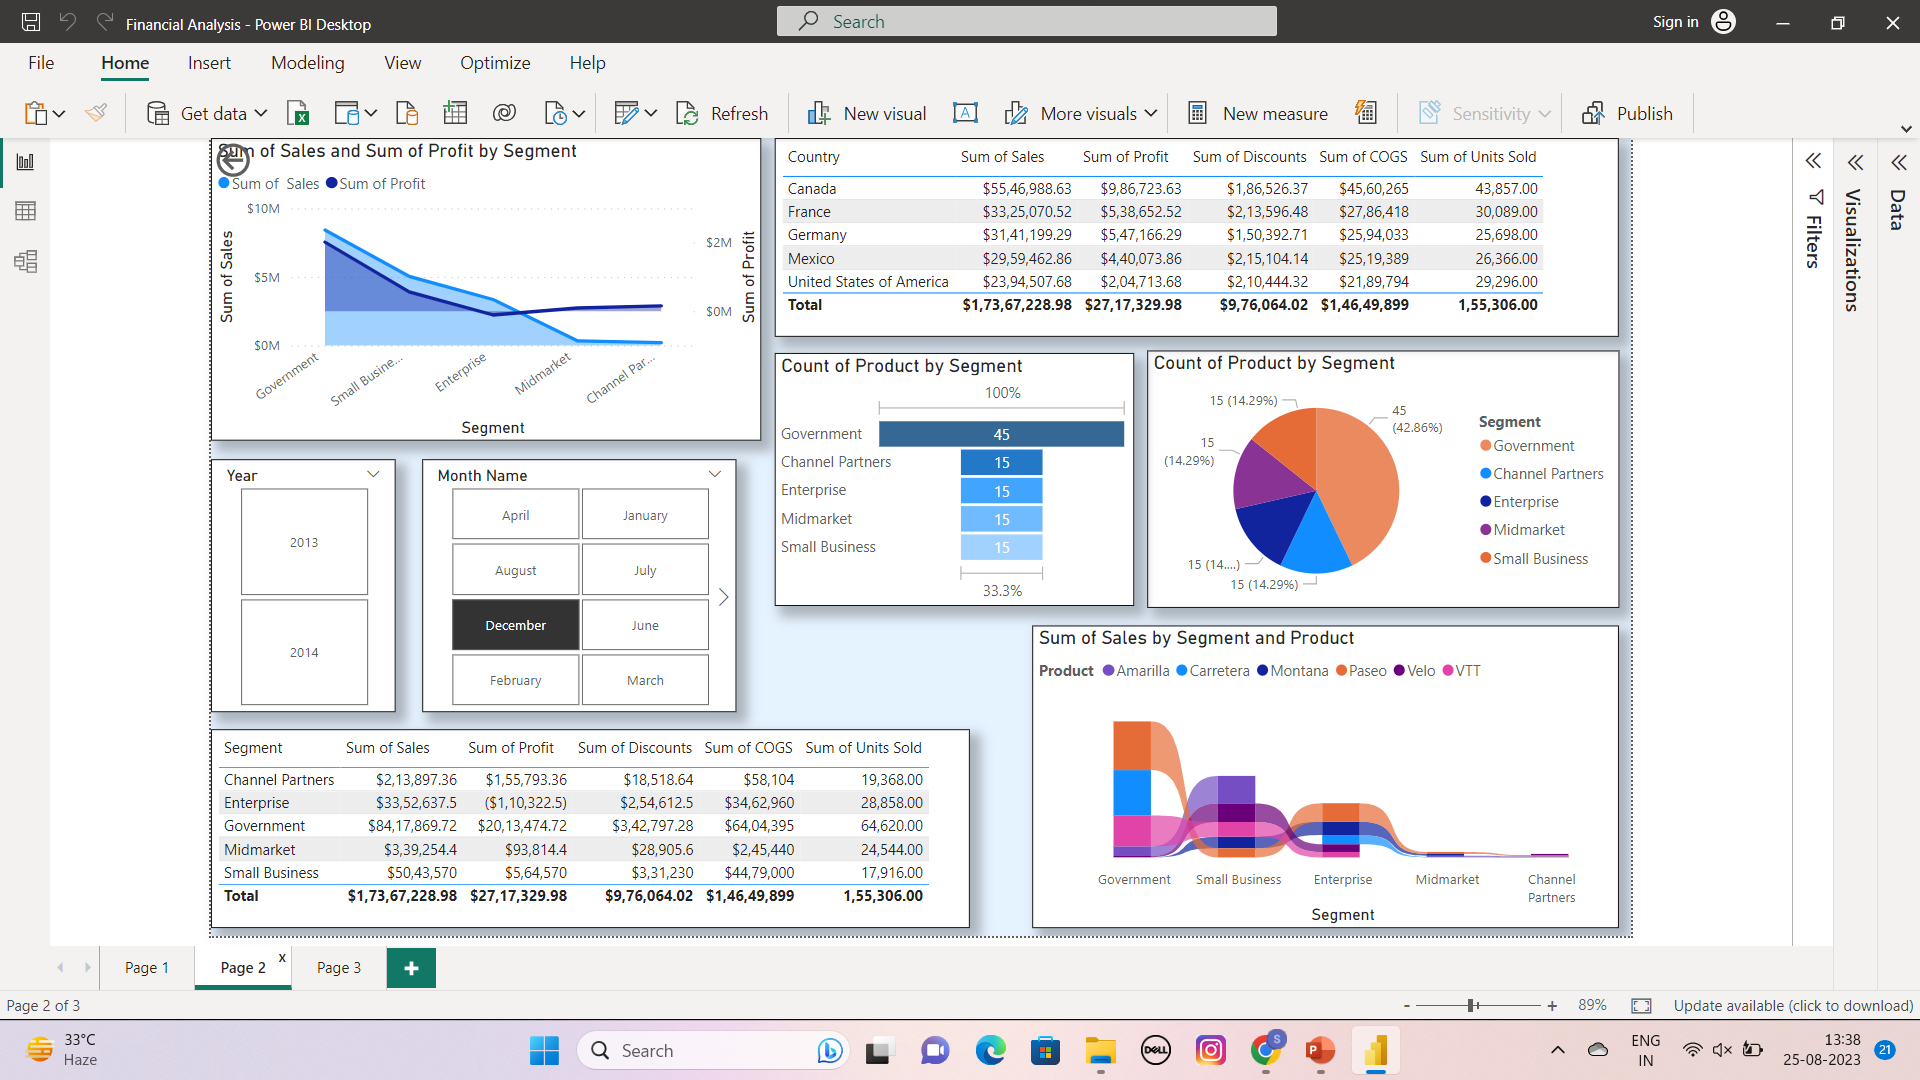

What the dashboard file says about the page in this screenshot:
{"tool":"powerbi","page":{"name":"Page 2","canvas":[1280,720],"ordinal":1},"visuals":[{"type":"slicer","fields":{"Values":["Sheet1.Year"]},"box":[0,289.3,166.2,227.7],"z":0},{"type":"slicer","fields":{"Values":["Sheet1.Month Name"]},"box":[190.6,289.3,283.5,227.7],"z":1},{"type":"pieChart","fields":{"Category":["Sheet1.Segment"],"Y":["CountNonNull(Sheet1.Product)"]},"box":[843.6,191.7,425.3,232.4],"z":2},{"type":"ribbonChart","fields":{"Category":["Sheet1.Segment"],"Y":["Sum(Sheet1. Sales)"],"Series":["Sheet1.Product"]},"box":[740.2,439.2,528.7,273.1],"z":3},{"type":"areaChart","fields":{"Y":["Sum(Sheet1. Sales)"],"Y2":["Sum(Sheet1.Profit)"],"Category":["Sheet1.Segment"]},"box":[0,0,496.2,273.1],"z":4},{"type":"tableEx","fields":{"Values":["Sheet1.Segment","Sum(Sheet1. Sales)","Sum(Sheet1.Profit)","Sum(Sheet1.Discounts)","Sum(Sheet1.COGS)","Sum(Sheet1.Units Sold)"]},"box":[0,533.3,684.4,178.9],"z":5},{"type":"actionButton","box":[0,0,100,40],"z":6},{"type":"tableEx","fields":{"Values":["Sheet1.Country","Sum(Sheet1. Sales)","Sum(Sheet1.Profit)","Sum(Sheet1.Discounts)","Sum(Sheet1.COGS)","Sum(Sheet1.Units Sold)"]},"box":[507.8,0,761.1,178.9],"z":7},{"type":"funnel","fields":{"Y":["CountNonNull(Sheet1.Product)"],"Category":["Sheet1.Segment"]},"box":[507.8,194,324.2,227.7],"z":8}]}

Visuals, with their boxes on the page's 1280x720 design canvas (x1, y1, x2, y2). These are canvas units, not pixel positions in the 1920x1080 screenshot, which may show the page scaled, cropped or inside an application window:
slicer - Sheet1.Year: {"left": 0, "top": 289, "right": 166, "bottom": 517}
slicer - Sheet1.Month Name: {"left": 191, "top": 289, "right": 474, "bottom": 517}
pieChart - Sheet1.Segment x CountNonNull(Sheet1.Product): {"left": 844, "top": 192, "right": 1269, "bottom": 424}
ribbonChart - Sheet1.Segment x Sum(Sheet1. Sales): {"left": 740, "top": 439, "right": 1269, "bottom": 712}
areaChart - Sum(Sheet1. Sales) x Sum(Sheet1.Profit): {"left": 0, "top": 0, "right": 496, "bottom": 273}
tableEx - Sheet1.Segment x Sum(Sheet1. Sales): {"left": 0, "top": 533, "right": 684, "bottom": 712}
actionButton: {"left": 0, "top": 0, "right": 100, "bottom": 40}
tableEx - Sheet1.Country x Sum(Sheet1. Sales): {"left": 508, "top": 0, "right": 1269, "bottom": 179}
funnel - CountNonNull(Sheet1.Product) x Sheet1.Segment: {"left": 508, "top": 194, "right": 832, "bottom": 422}
